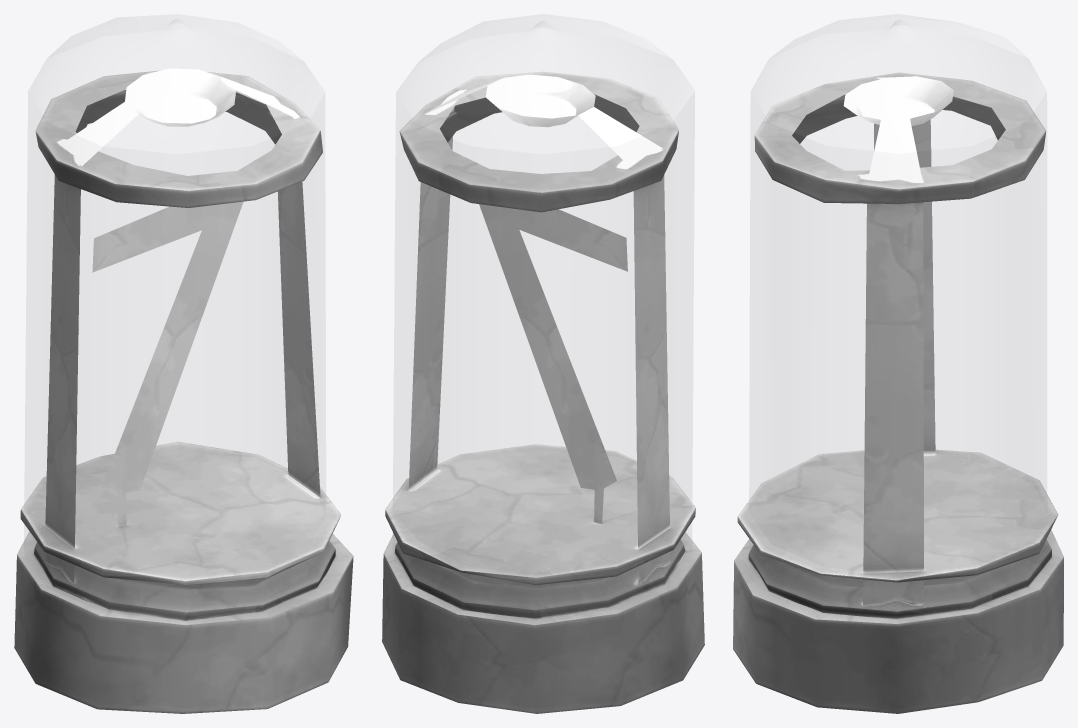
Rendered from obj_num07_alt.gltf.
The picture shows the model from 3 angles, left to right: view 1: azimuth 30°, elevation 25°; view 2: azimuth 150°, elevation 25°; view 3: azimuth 270°, elevation 25°; orthographic projection.
Parts seen in each view (by area): view 1: obj_num07_alt, obj_num07_glass; view 2: obj_num07_alt, obj_num07_glass; view 3: obj_num07_alt, obj_num07_glass.
Part boxes in pixels (bbox=[...]): obj_num07_alt: bbox=[14, 68, 353, 713]; obj_num07_glass: bbox=[24, 14, 325, 555]; obj_num07_alt: bbox=[382, 71, 704, 713]; obj_num07_glass: bbox=[393, 14, 694, 552]; obj_num07_alt: bbox=[733, 72, 1063, 713]; obj_num07_glass: bbox=[749, 14, 1046, 549].
Size of what is drawn, in the model's own units: 0.3415 by 0.7171 by 0.3439.
Materials: 2 (1 with a texture image).
